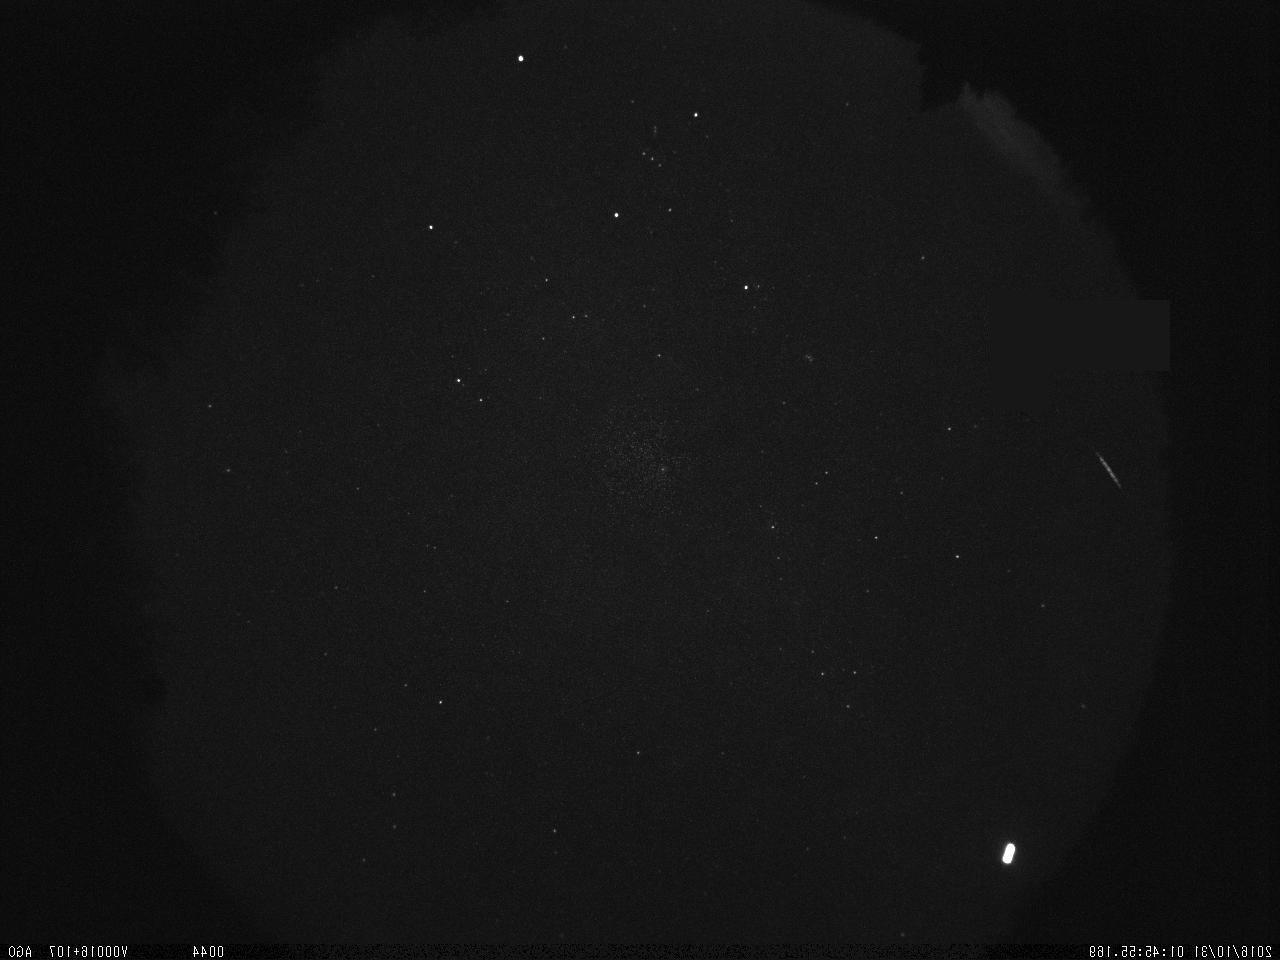meteor: (1083, 424, 1129, 504)
